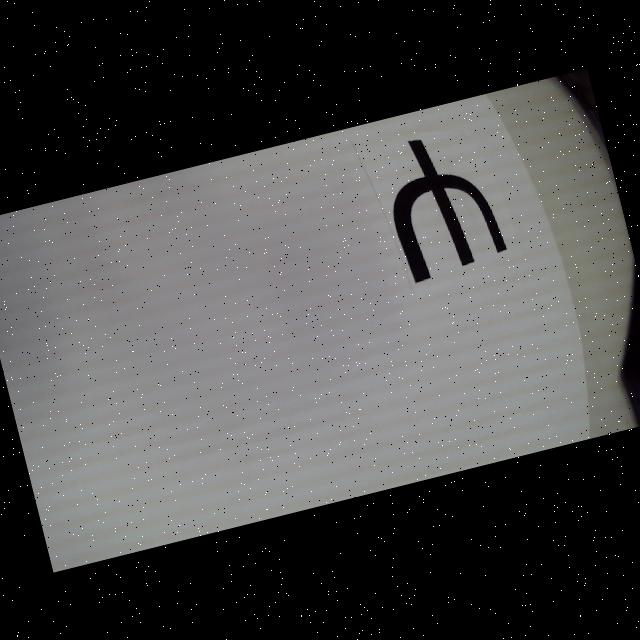PSI: (375, 122, 510, 286)
